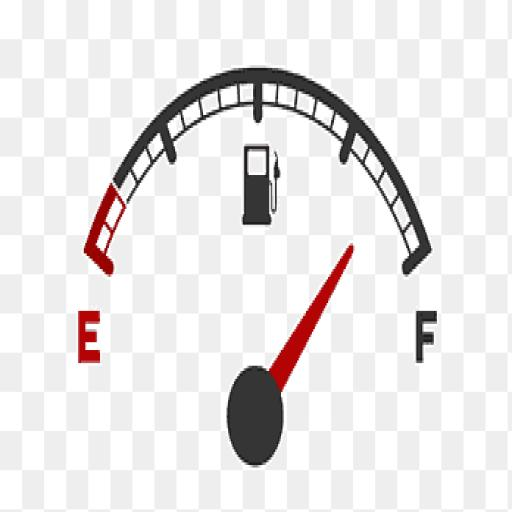empty: (76, 304, 104, 368)
fuel_icon: (238, 140, 279, 225)
full: (412, 304, 440, 366)
guage_area: (65, 64, 447, 482)
needle_center: (226, 356, 286, 472)
needle_tip: (336, 234, 356, 284)
